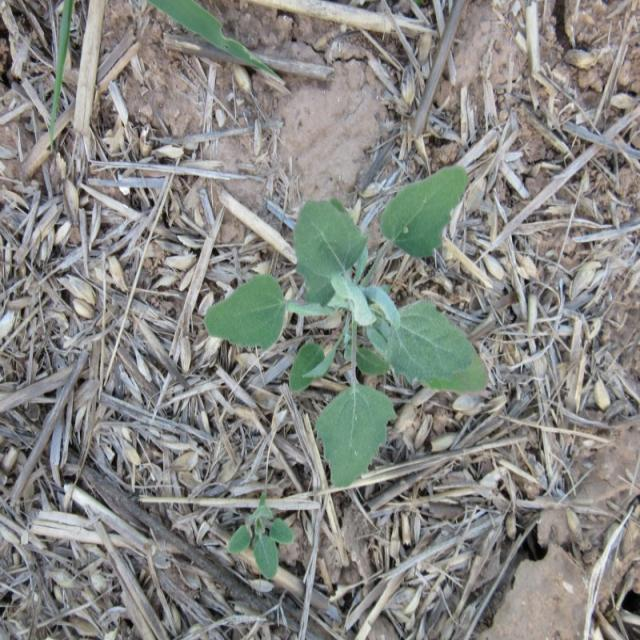ca: (212, 167, 489, 487)
